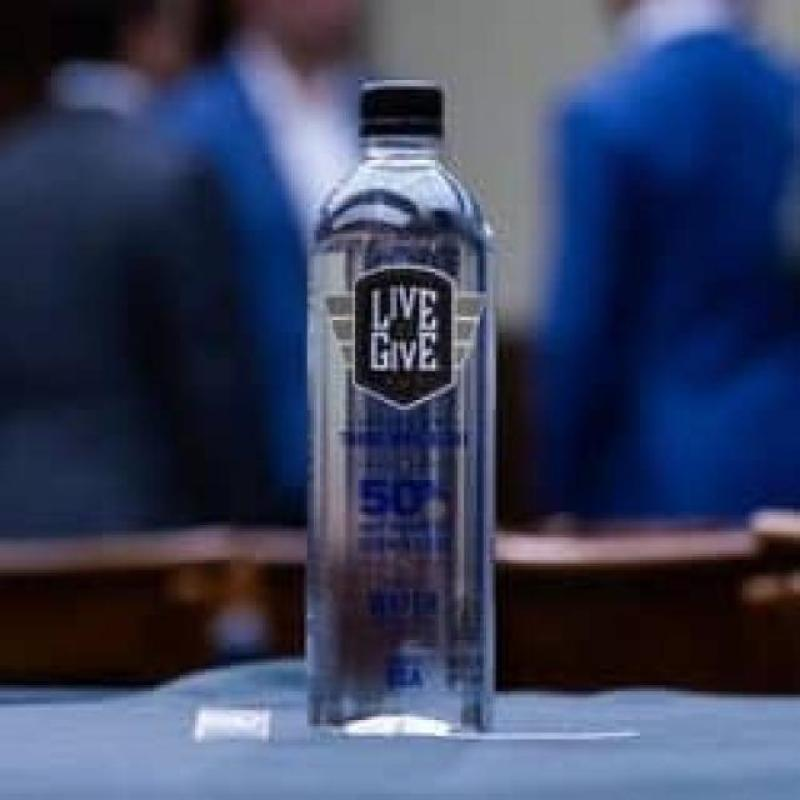botella: (308, 79, 499, 741)
